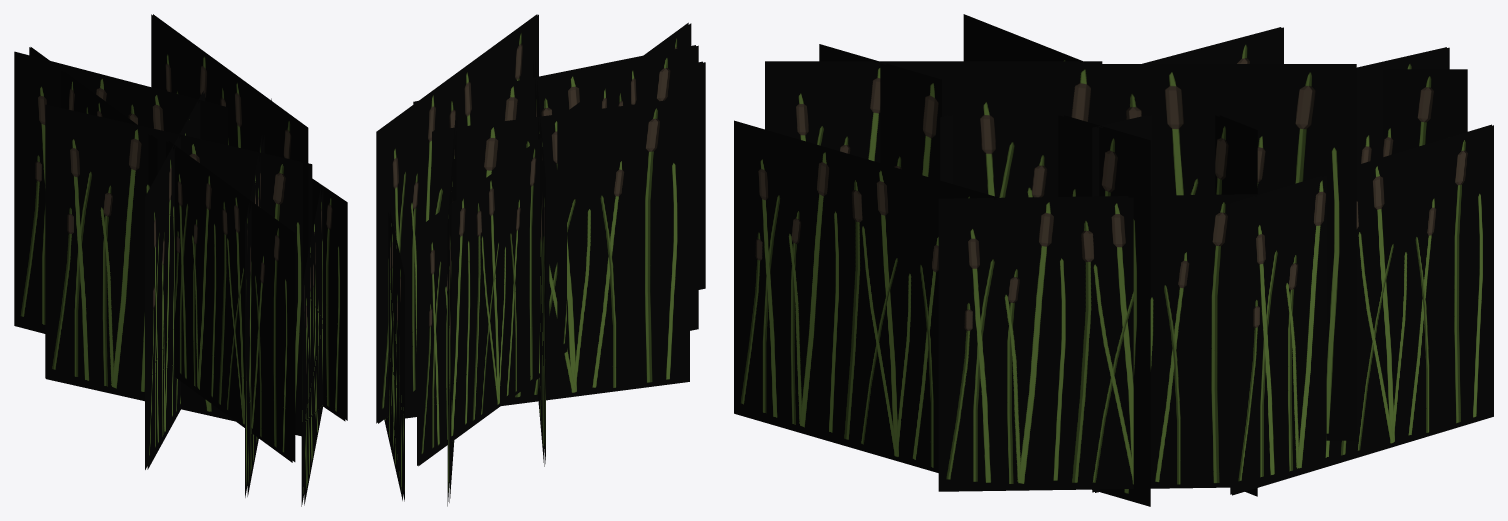
Rendered from Reeds1.fbx.
3 renders of one model, left to right at view 1: azimuth 30°, elevation 25°; view 2: azimuth 150°, elevation 25°; view 3: azimuth 270°, elevation 25°, orthographic. The views are drawn at different scales.
Parts seen in each view (by area): view 1: Reedplanes, Reedplanes_1; view 2: Reedplanes, Reedplanes_1; view 3: Reedplanes, Reedplanes_1.
Part boxes in pixels (x1,y1,x2,y2): Reedplanes: (14,14,347,422); Reedplanes_1: (14,232,347,506); Reedplanes: (376,14,705,414); Reedplanes_1: (376,201,705,506); Reedplanes: (734,14,1493,383); Reedplanes_1: (734,302,1493,506).
Bounding box in the file's own units: 148 × 221 × 367.
Materials: 1 (1 with a texture image).
